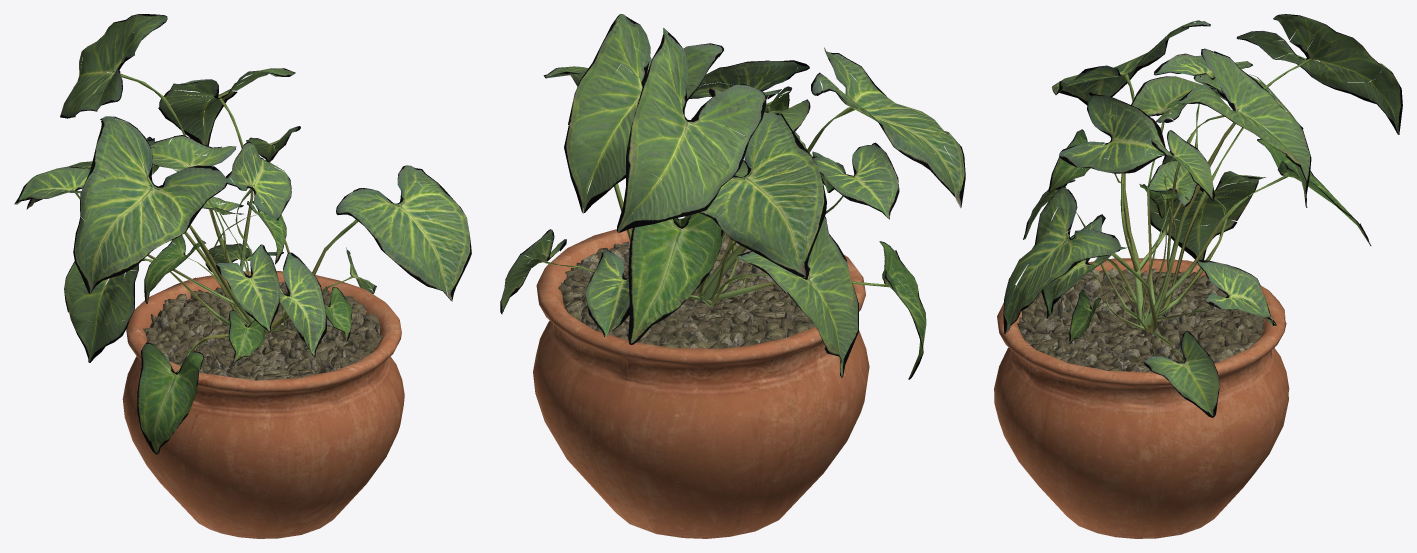
The model's file is potted_plant_02.glb.
The picture shows the model from 3 angles, left to right: view 1: azimuth 30°, elevation 25°; view 2: azimuth 150°, elevation 25°; view 3: azimuth 270°, elevation 25°; orthographic projection. The views are drawn at different scales.
Visible parts, largest first — view 1: potted_plant_02_dirt; view 2: potted_plant_02_dirt; view 3: potted_plant_02_dirt.
Boxes of the visible parts, <box> form: potted_plant_02_dirt: <box>14,14,471,538</box>; potted_plant_02_dirt: <box>500,14,965,538</box>; potted_plant_02_dirt: <box>994,14,1402,538</box>.
Bounding box in the file's own units: 0.7008 × 0.8416 × 0.657.
Materials: 2 (2 with a texture image).
